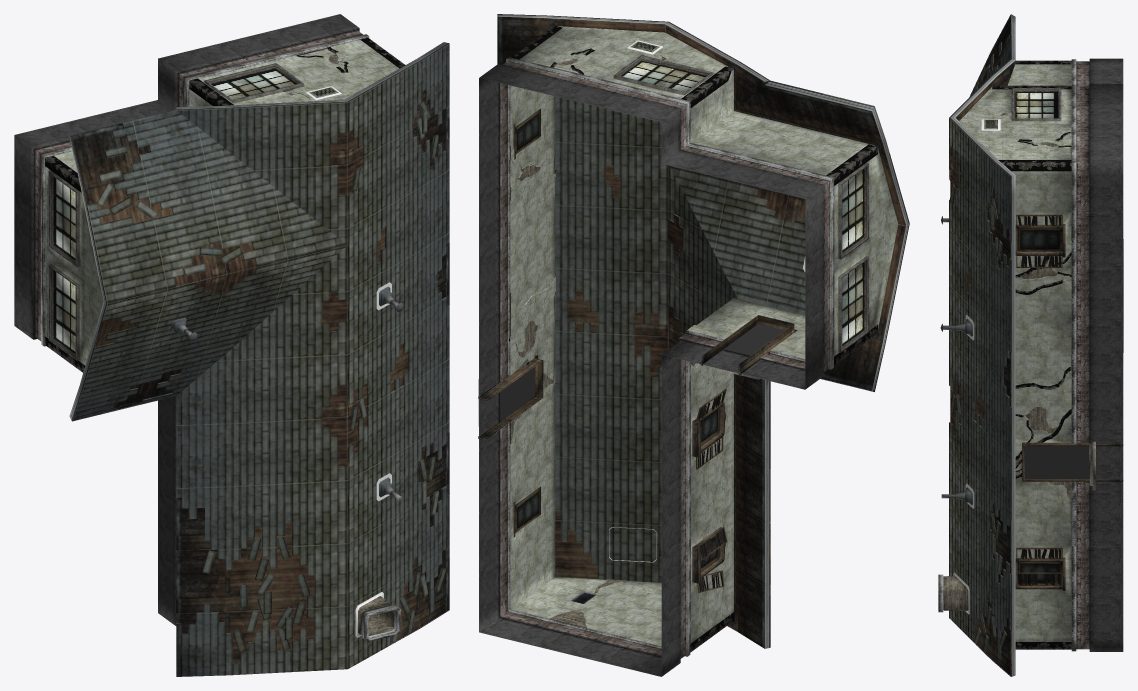
Rendered from rundownhouse2.obj.
The picture shows the model from 3 angles, left to right: view 1: azimuth 30°, elevation 25°; view 2: azimuth 150°, elevation 25°; view 3: azimuth 270°, elevation 25°; orthographic projection. The views are drawn at different scales.
Parts seen in each view (by area): view 1: NVRanch_house01:1, NVRanch_house01:8, NVRanch_house01:7; view 2: NVRanch_house01:1, NVRanch_house01:8; view 3: NVRanch_house01:1, NVRanch_house01:8, NVRanch_house01:7.
Part boxes in pixels (<box>): NVRanch_house01:1: <box>14,14,449,676</box>; NVRanch_house01:8: <box>45,37,405,372</box>; NVRanch_house01:7: <box>306,86,391,637</box>; NVRanch_house01:1: <box>478,14,909,676</box>; NVRanch_house01:8: <box>508,26,877,652</box>; NVRanch_house01:1: <box>938,14,1123,676</box>; NVRanch_house01:8: <box>992,60,1071,649</box>; NVRanch_house01:7: <box>953,119,1000,614</box>.
Size of what is drawn, in the model's own units: 889 by 1277 by 429.
